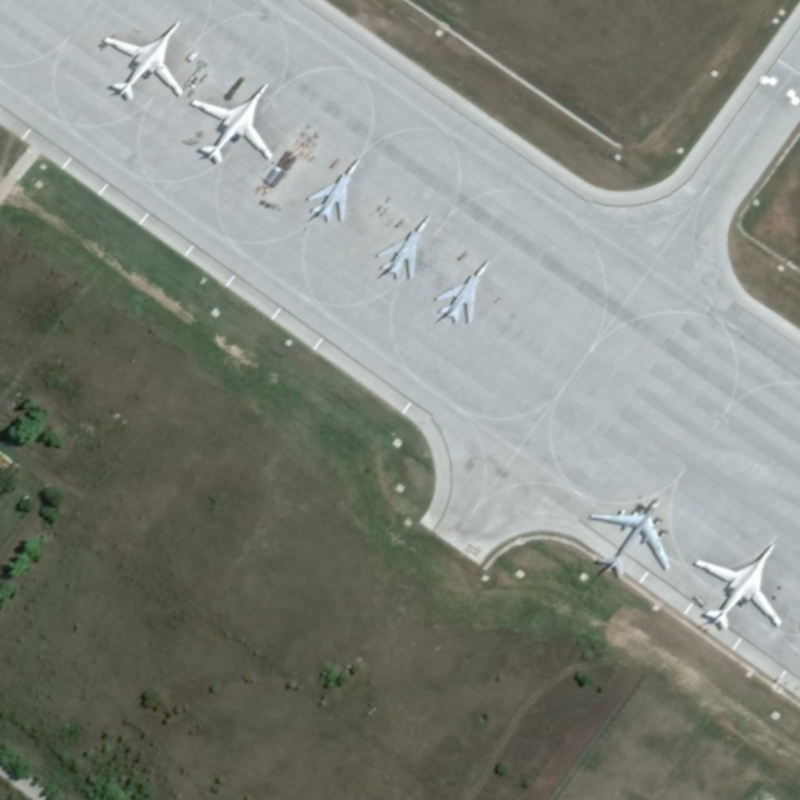A12: (430, 251, 496, 330), (373, 207, 437, 284), (301, 151, 362, 225)
A17: (580, 490, 676, 584)
A6: (682, 536, 790, 638), (93, 13, 185, 113), (184, 74, 277, 171)
